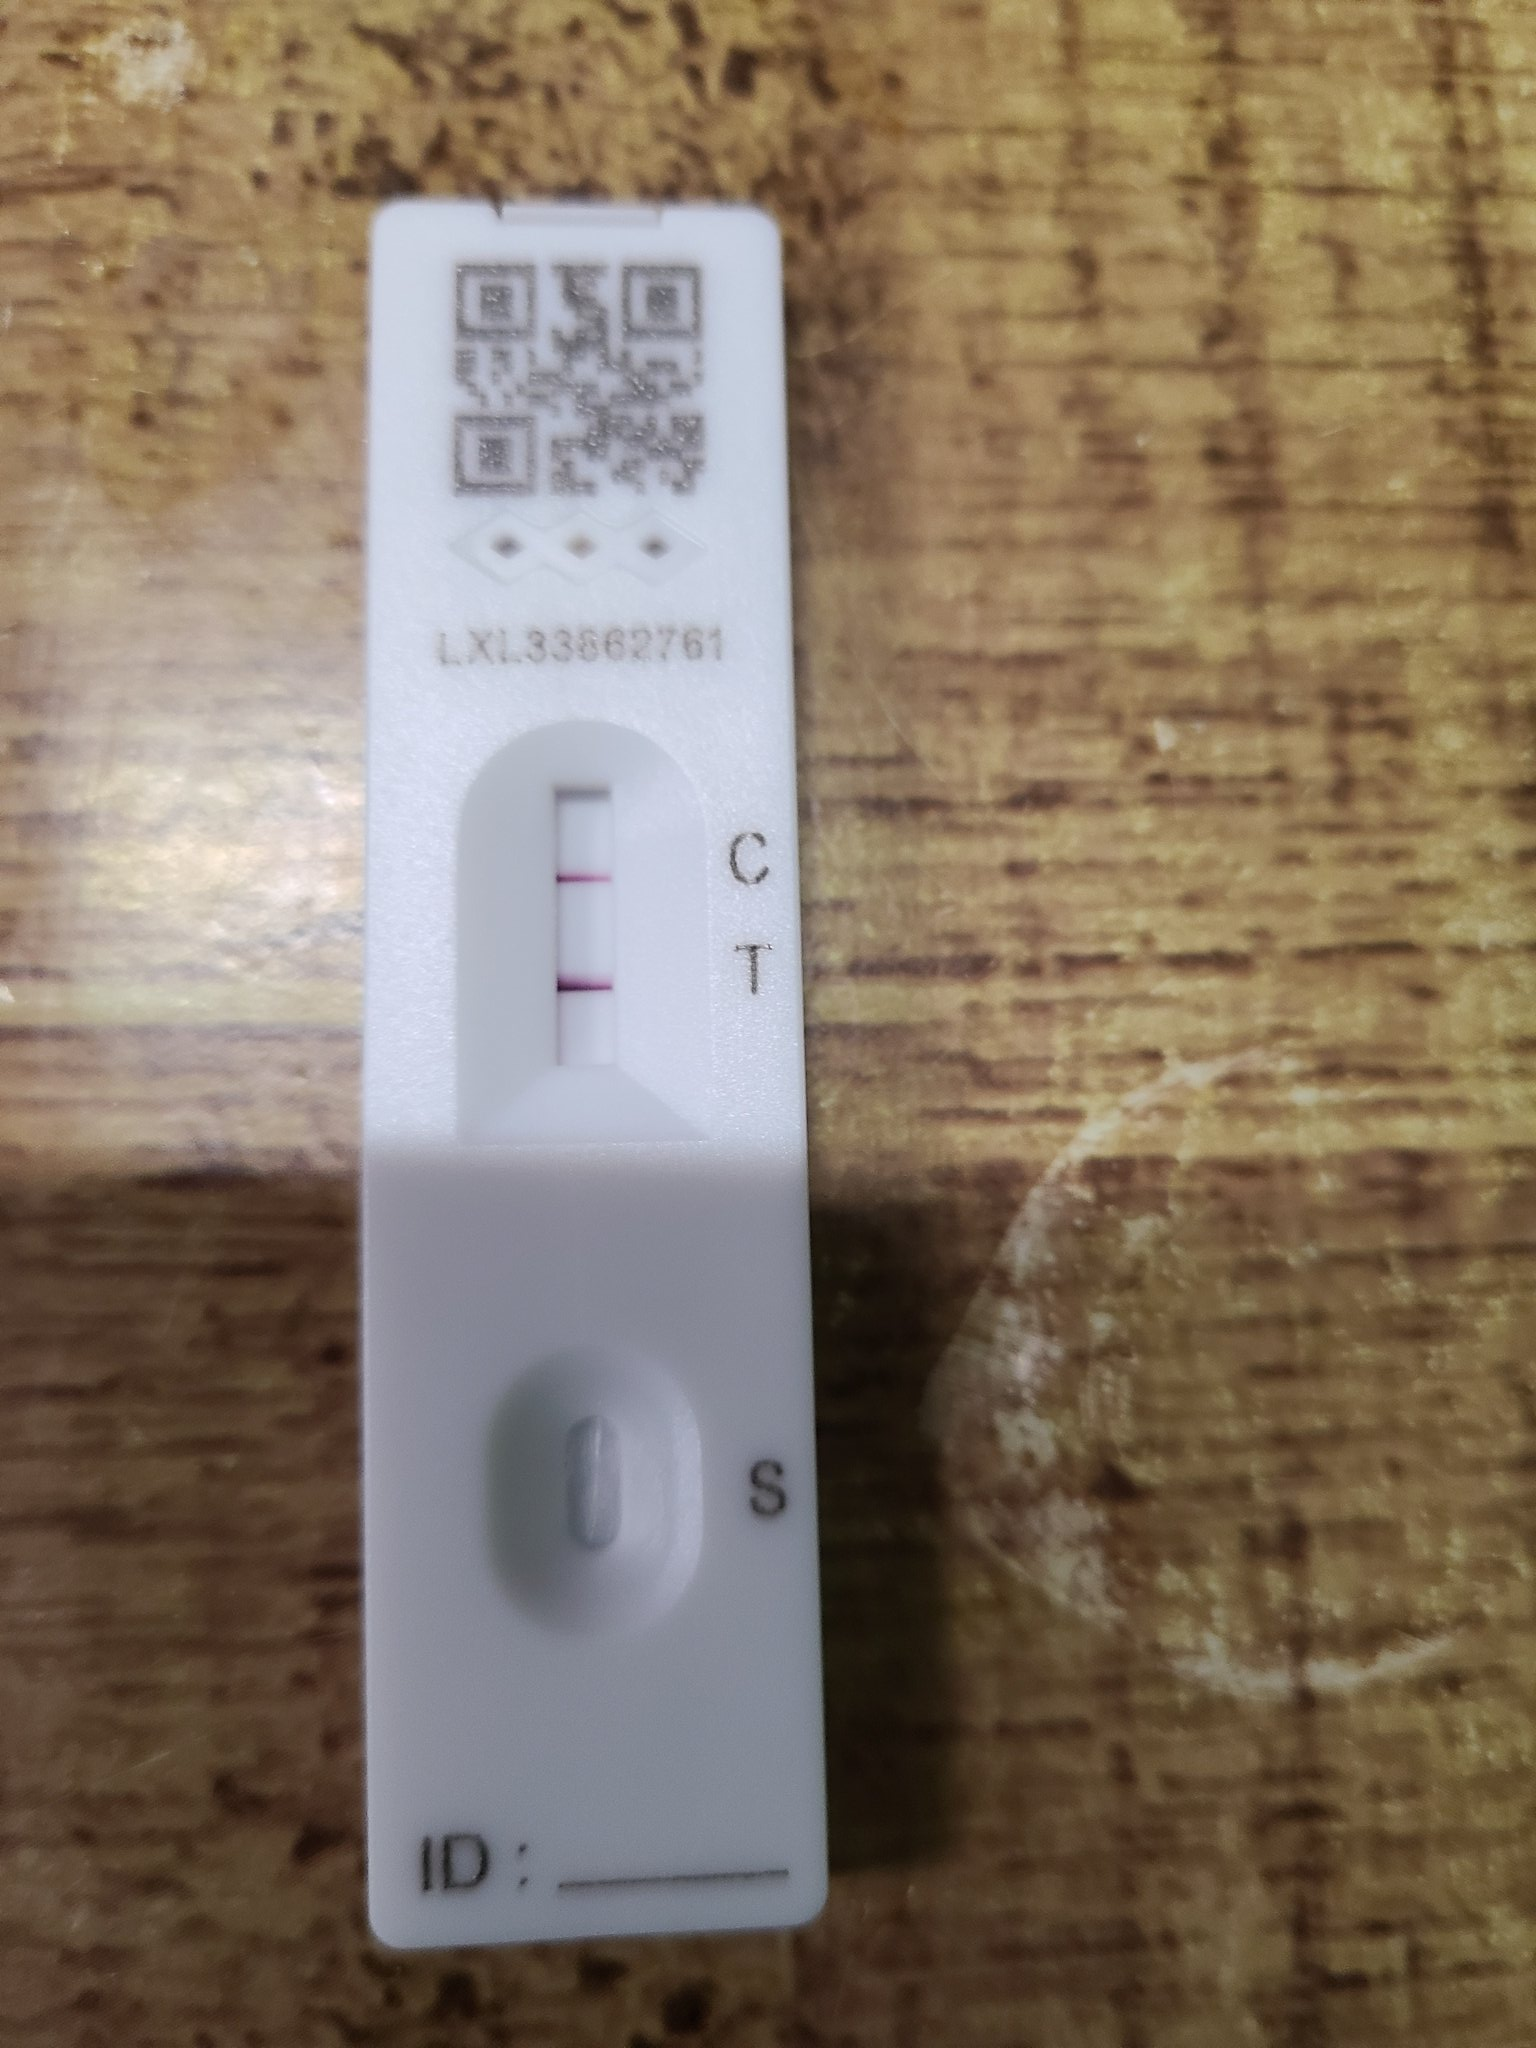positive: (510, 760, 673, 1126)
